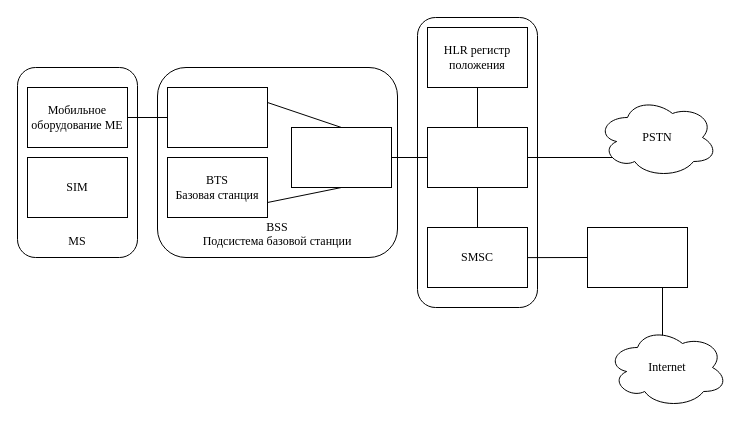
Some shapes in this 745 by 425 pixel diagram are drawn without their labels. Each missing label, with the centre of its shape:
"BSC контроллер базовой станции" belongs at point (341, 157).
"BTS" belongs at point (217, 117).
"Gateway" belongs at point (637, 257).
"MSC Центр коммутации" belongs at point (477, 157).
